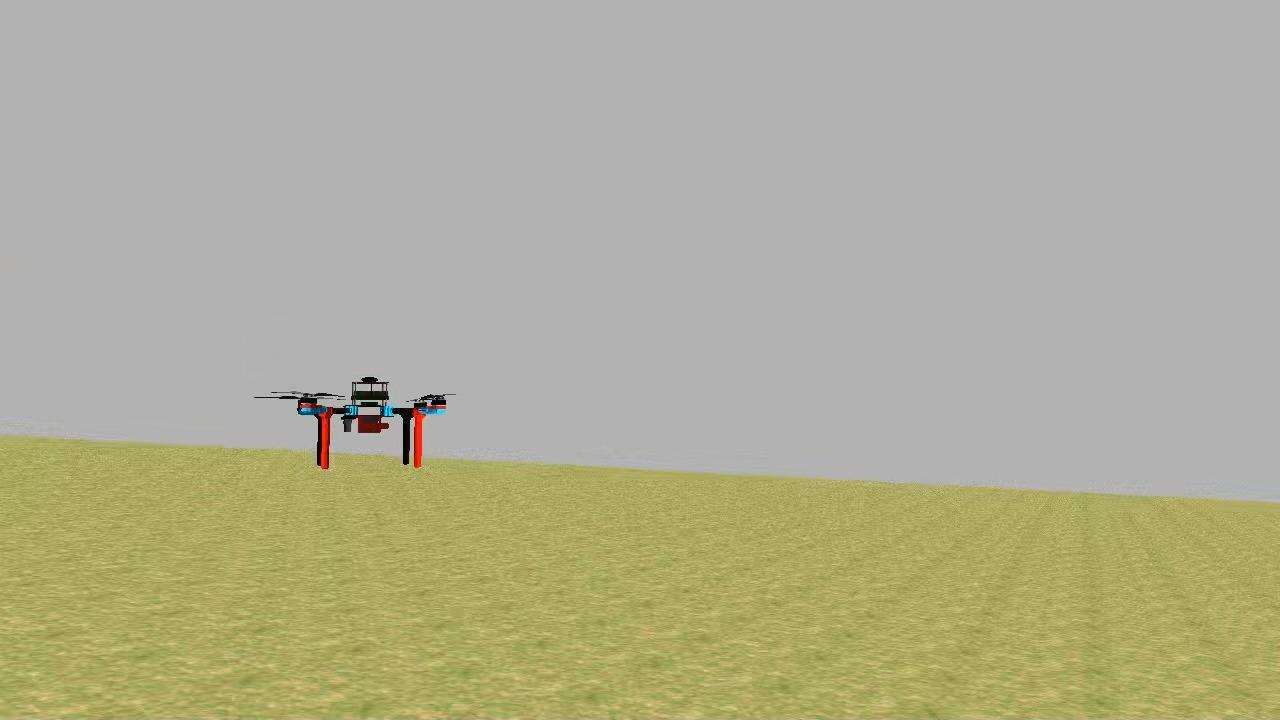UAV: (294, 370, 450, 476)
